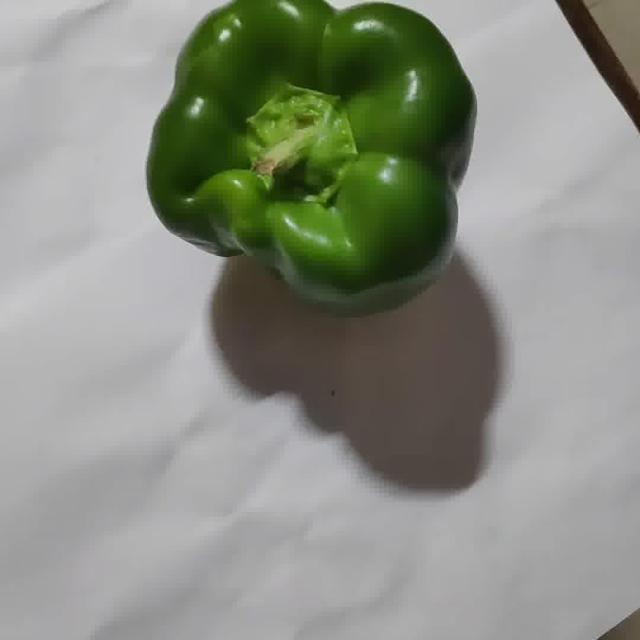Bell Pepper: (147, 0, 476, 312)
